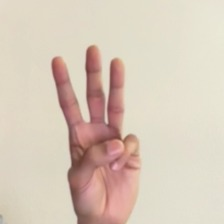W: (31, 33, 156, 222)
